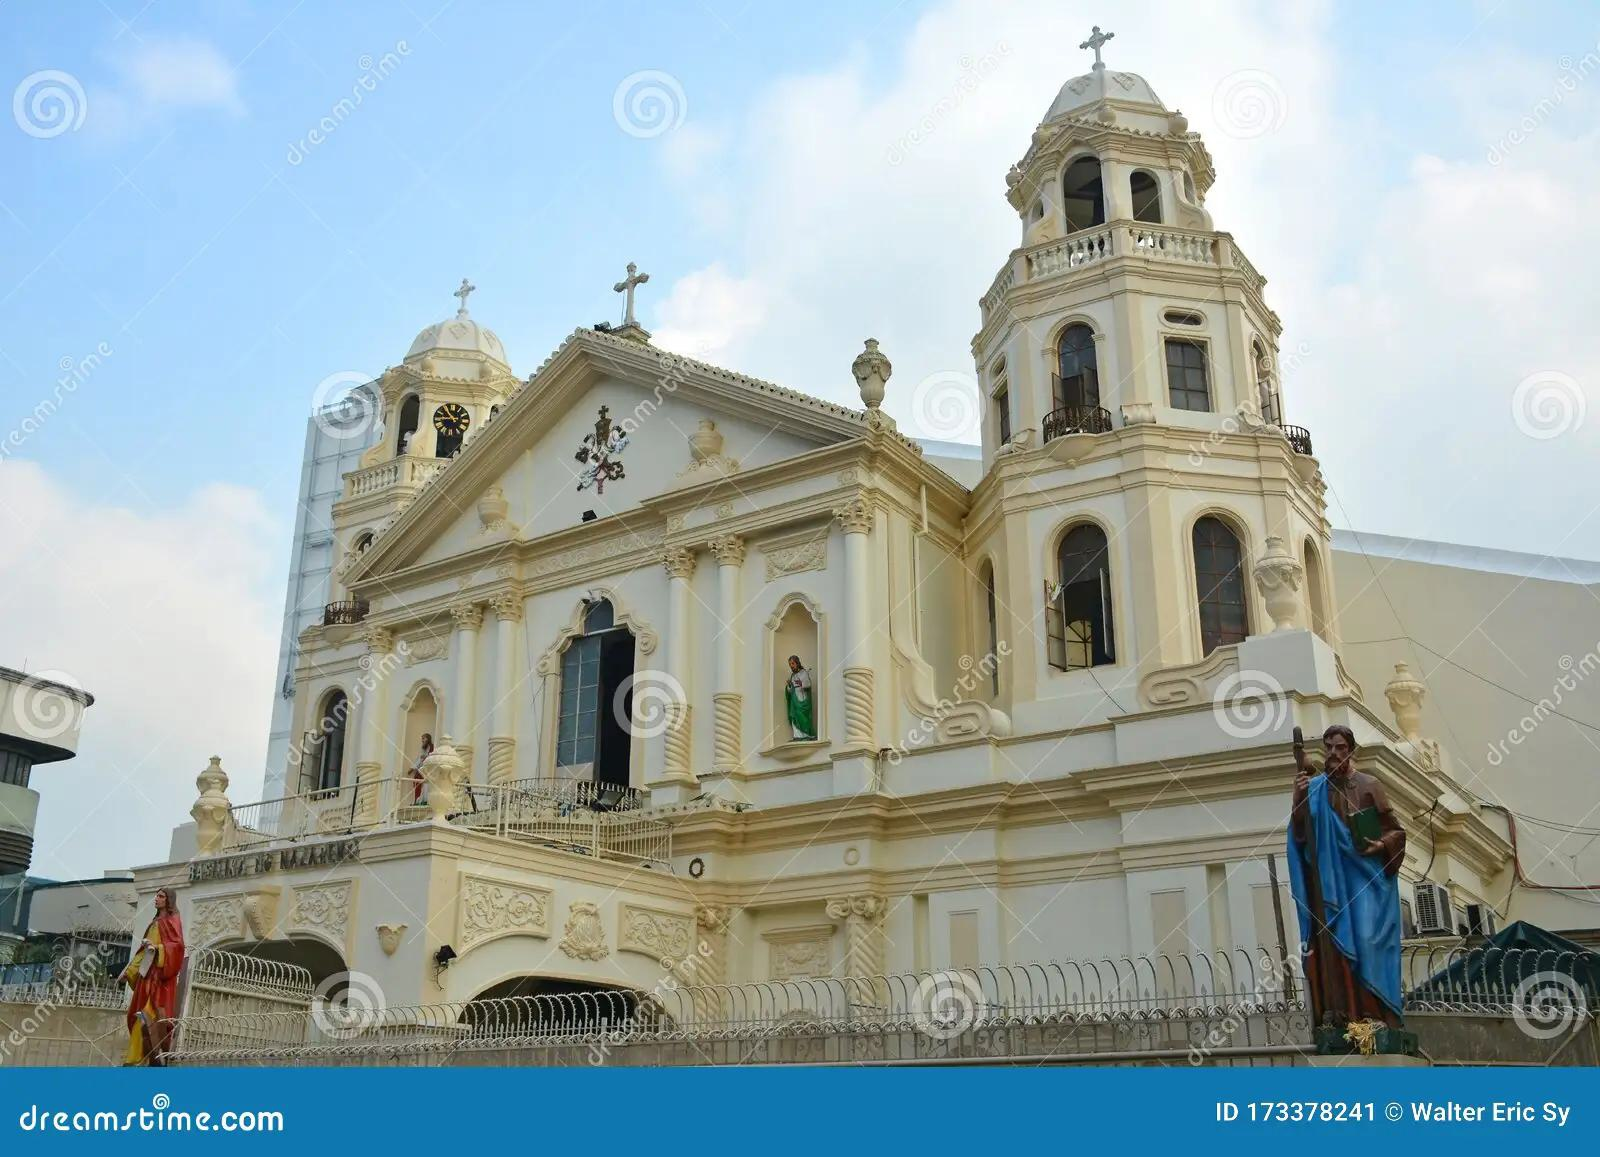quiapo_church_quiapo_manila: (175, 17, 1366, 1084)
